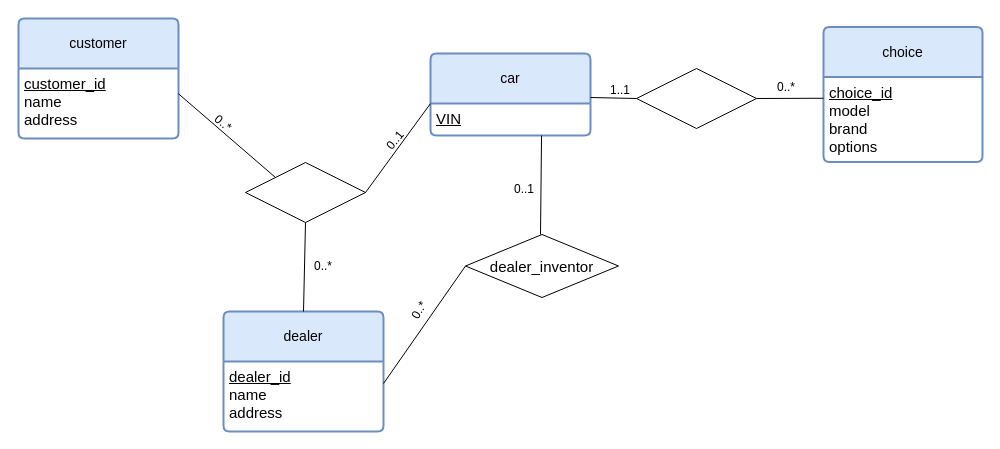
Image size: 1000x449. Some labels were removed from this diagram. The shapes that lost their labels are listed below. From the top down, each one's centre as x and y in pixels, then its label:
At (x=696, y=98): "car_choice".
At (x=305, y=192): "sale".
